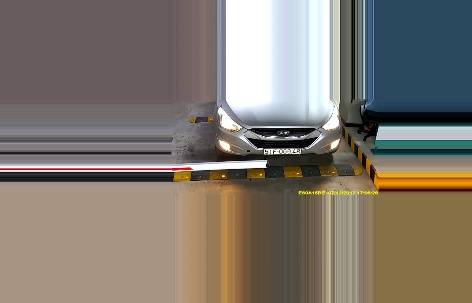plate: (263, 146, 304, 156)
